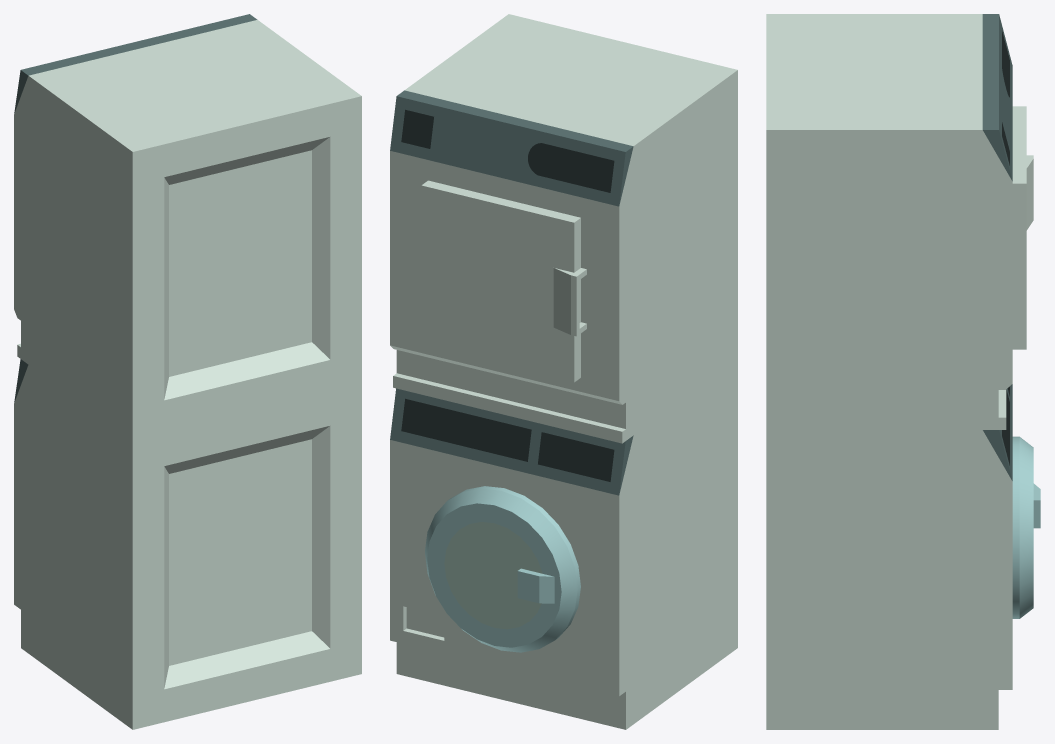
File: washerDryerStacked.fbx
The picture shows the model from 3 angles, left to right: view 1: azimuth 30°, elevation 25°; view 2: azimuth 150°, elevation 25°; view 3: azimuth 270°, elevation 25°; orthographic projection. The views are drawn at different scales.
Visible parts, largest first — view 1: washerDryerStacked; view 2: washerDryerStacked, dryerDoor 1, washerDoor 1; view 3: washerDryerStacked, washerDoor 1, dryerDoor 1.
Boxes of the visible parts, x1,y1,x2,y2 form: washerDryerStacked: (14,14,361,729); washerDryerStacked: (390,14,737,729); dryerDoor 1: (421,180,586,382); washerDoor 1: (425,486,580,652); washerDryerStacked: (766,14,1012,729); washerDoor 1: (1012,436,1040,618); dryerDoor 1: (1012,106,1033,349).
Bounding box in the file's own units: 3.9 × 9.4 × 3.9.
